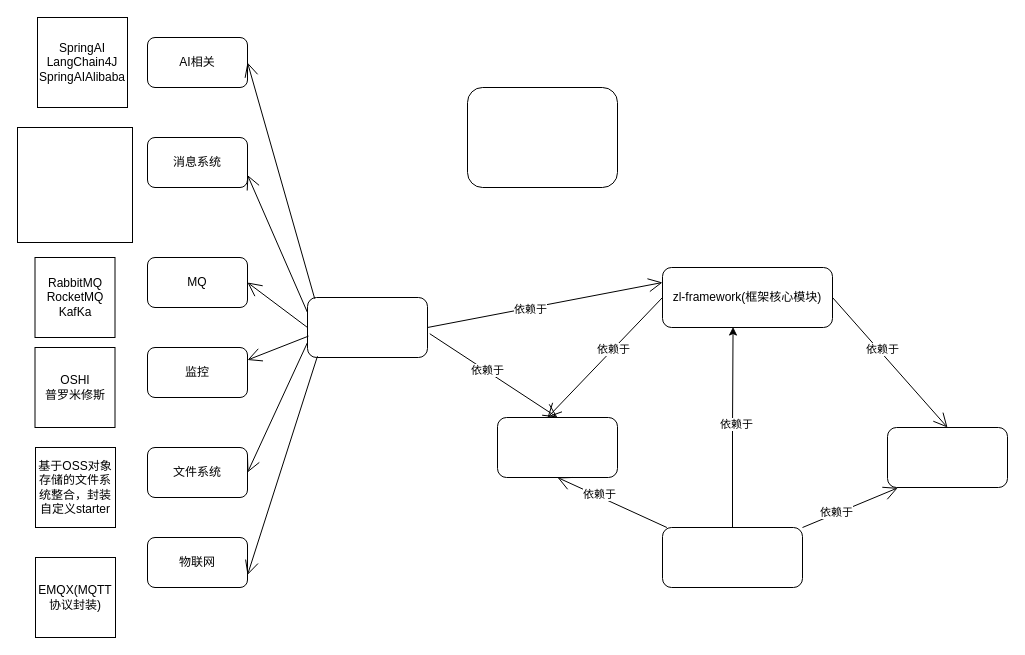
The diagram is 1025 pixels wide and 655 high, and some of its shapes have lost their labels. The centre of each missing label's shape, as x and y in pixels:
zl-common(系统通用工具模块): pixel 557 447
zl-extend(扩展插件/中间件): pixel 367 327
zl-model(系统实体类模块): pixel 947 457
zl-security(权限认证模块): pixel 732 557
zl-web(业务模块) 根据需求引入相应模块: pixel 542 137
原生WebSocket Netty整合WebSocket,WebRTC: pixel 74 184
